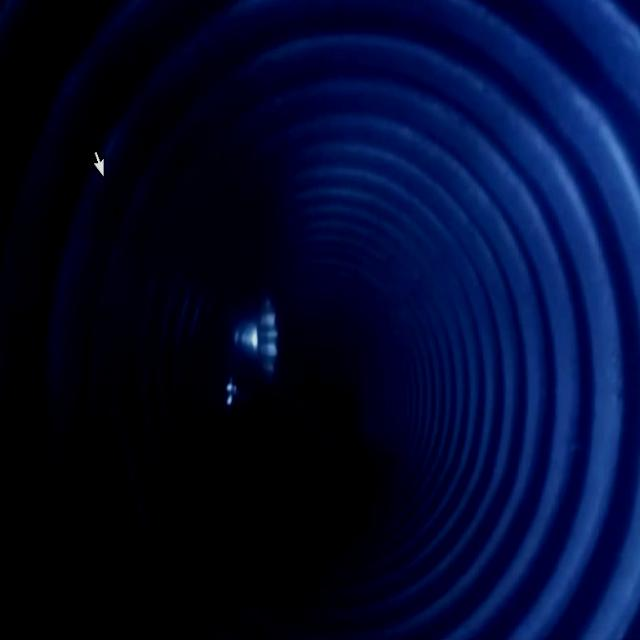metal piece: (222, 288, 279, 411)
